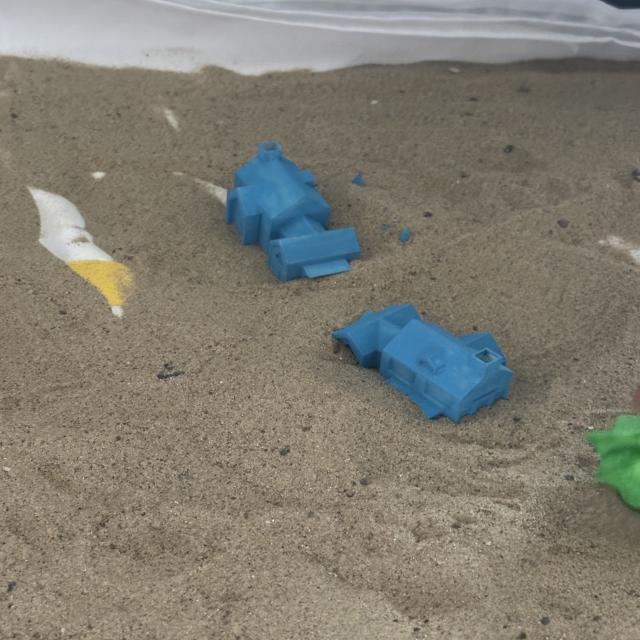house: (220, 136, 415, 286), (332, 298, 516, 424)
tree: (592, 407, 640, 522)
